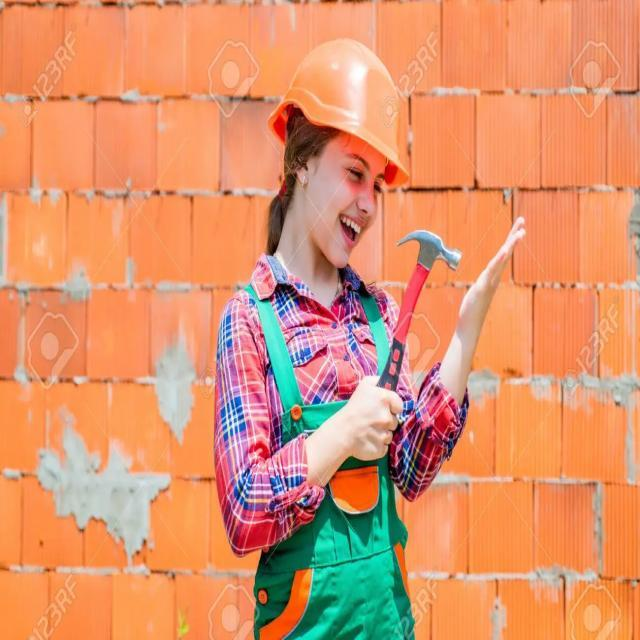hammer: (365, 217, 469, 430)
